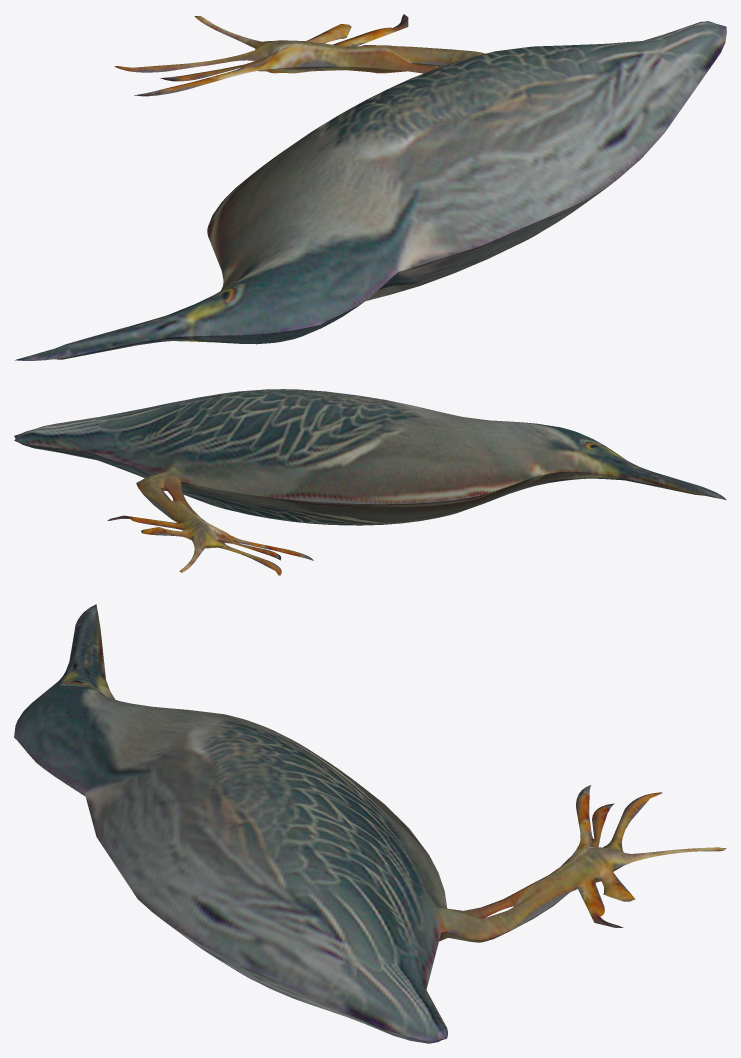
File: 2708473519_ca985542cc-removebg-preview.gltf
The picture shows the model from 3 angles, top to bottom: view 1: azimuth 30°, elevation 25°; view 2: azimuth 150°, elevation 25°; view 3: azimuth 270°, elevation 25°; orthographic projection. The views are drawn at different scales.
Parts seen in each view (by area): view 1: node1; view 2: node1; view 3: node1.
Part boxes in pixels (bbox=[...]): node1: bbox=[14, 14, 726, 360]; node1: bbox=[14, 389, 726, 575]; node1: bbox=[14, 604, 726, 1043].
Bounding box in the file's own units: 1.2 × 0.2307 × 0.825.
Materials: 1 (1 with a texture image).
